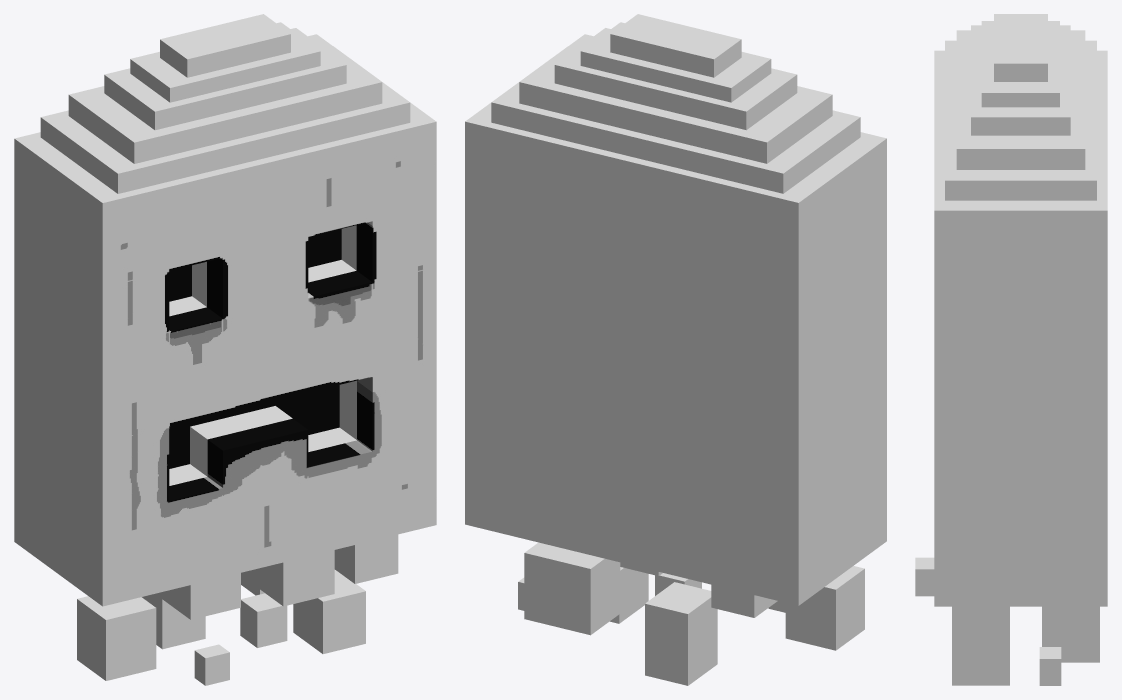
File: Ghost_01.fbx
3 renders of one model, left to right at view 1: azimuth 30°, elevation 25°; view 2: azimuth 150°, elevation 25°; view 3: azimuth 270°, elevation 25°, orthographic.
Parts seen in each view (by area): view 1: pCube26; view 2: pCube26; view 3: pCube26.
Part boxes in pixels (x1=…): pCube26: x1=14, y1=14, x2=436, y2=685; pCube26: x1=465, y1=14, x2=886, y2=685; pCube26: x1=915, y1=14, x2=1107, y2=685.
Bounding box in the file's own units: 2.74 × 4.77 × 1.39.
Materials: 1 (1 with a texture image).
